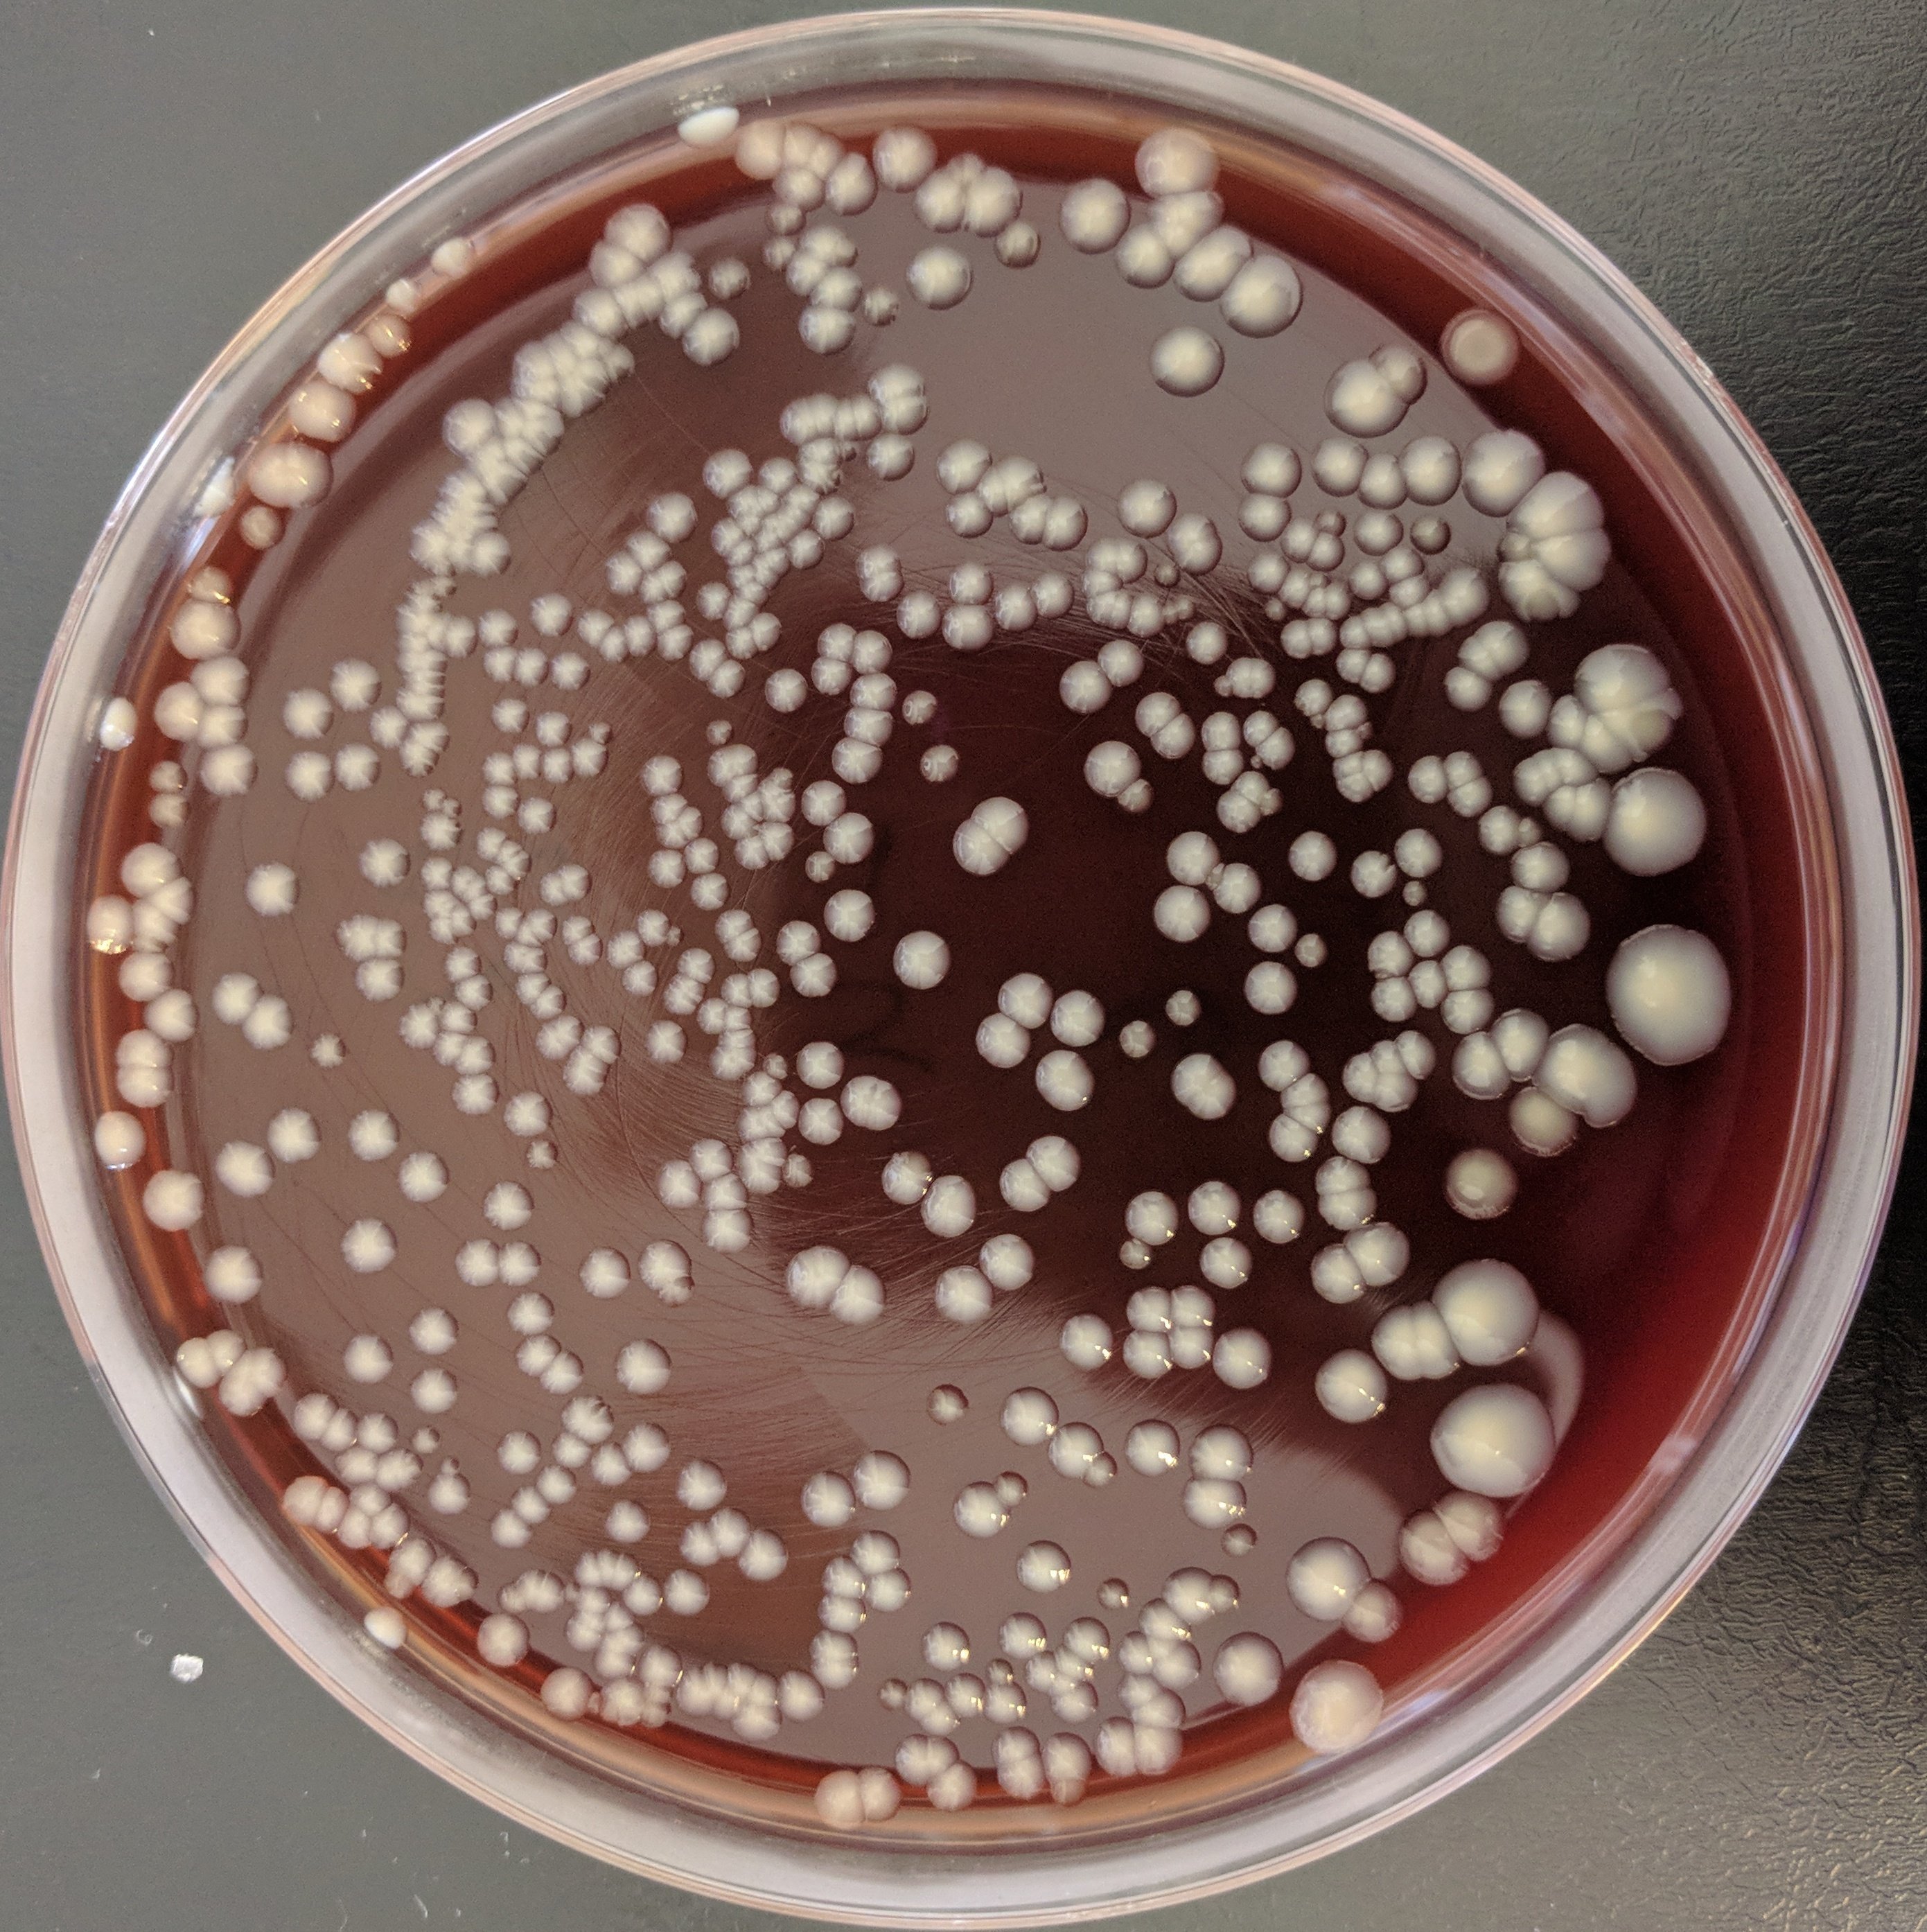sp05: (1601, 925, 1740, 1067), (1426, 1374, 1562, 1505), (528, 1013, 759, 1089), (1601, 766, 1717, 886), (1428, 1258, 1544, 1373), (1530, 1018, 1638, 1134), (1283, 1657, 1391, 1757), (1502, 459, 1613, 545), (1274, 1530, 1375, 1618), (1218, 240, 1308, 337), (1459, 425, 1549, 522), (1389, 1501, 1475, 1602), (1124, 122, 1228, 199), (1142, 321, 1237, 406), (1567, 639, 1676, 711), (1435, 1143, 1525, 1230), (1306, 1343, 1394, 1429), (1053, 171, 1138, 259), (1318, 358, 1408, 441), (1592, 686, 1691, 760), (1205, 1630, 1292, 1715), (1440, 303, 1525, 388), (1523, 526, 1625, 595), (1426, 1486, 1514, 1565), (1175, 213, 1253, 302), (244, 441, 335, 515), (1496, 554, 1585, 628), (210, 1346, 295, 1422), (1391, 427, 1465, 513), (1142, 187, 1230, 259), (1505, 1083, 1585, 1163), (775, 1244, 858, 1318), (281, 378, 365, 450), (888, 925, 969, 999), (1339, 1217, 1419, 1292), (1369, 1306, 1435, 1396), (904, 238, 981, 312), (847, 1445, 919, 1524), (1443, 1029, 1518, 1105), (168, 595, 247, 665), (136, 1163, 210, 1237), (866, 120, 942, 192), (1332, 1576, 1405, 1651), (593, 199, 674, 266), (1106, 221, 1181, 293), (1027, 1048, 1101, 1120), (194, 1240, 272, 1309), (1043, 985, 1115, 1057), (692, 448, 768, 517), (1145, 877, 1214, 953), (1484, 1006, 1549, 1085), (1172, 1470, 1253, 1533), (949, 168, 1023, 236), (1295, 1239, 1369, 1307), (206, 1133, 281, 1202), (911, 1172, 983, 1240), (1325, 1101, 1399, 1168), (1105, 475, 1181, 540), (1235, 439, 1311, 505), (789, 1470, 865, 1535), (1526, 893, 1595, 963), (963, 789, 1036, 856), (312, 328, 385, 395), (905, 159, 971, 233), (992, 1383, 1066, 1449), (974, 448, 1050, 512), (822, 145, 884, 222), (826, 1262, 895, 1330), (143, 679, 212, 748), (930, 1265, 1001, 1332), (1052, 1309, 1119, 1380), (923, 427, 995, 492), (1182, 1420, 1255, 1486), (1216, 1322, 1278, 1397), (259, 1099, 328, 1166), (83, 1106, 152, 1173), (1159, 1039, 1228, 1105), (238, 857, 309, 921), (1193, 1235, 1265, 1297), (194, 743, 266, 805), (662, 1452, 736, 1512), (184, 455, 244, 529), (939, 820, 1015, 879), (1366, 339, 1433, 404), (969, 1013, 1036, 1078), (138, 985, 205, 1050), (678, 307, 746, 371), (972, 1232, 1043, 1293), (469, 1611, 540, 1673), (79, 889, 141, 960), (1122, 1719, 1195, 1778), (429, 399, 503, 457), (1412, 1293, 1461, 1380), (1304, 432, 1369, 498), (993, 972, 1059, 1037), (339, 1214, 402, 1281), (1244, 1186, 1313, 1247), (118, 838, 187, 900), (1080, 739, 1145, 803), (1278, 826, 1343, 889), (1025, 1134, 1091, 1198), (731, 1524, 794, 1590), (806, 1768, 870, 1833), (277, 683, 342, 746), (605, 1337, 672, 1399), (639, 1232, 701, 1299), (794, 302, 863, 362), (1237, 960, 1306, 1020), (577, 1547, 637, 1616), (328, 649, 385, 722), (184, 651, 256, 708), (755, 450, 819, 513), (1156, 826, 1221, 887), (821, 806, 882, 872), (637, 489, 704, 549), (566, 281, 634, 341), (1182, 1177, 1249, 1237), (1117, 1419, 1184, 1479), (268, 1473, 335, 1533), (1491, 880, 1549, 949), (1117, 1187, 1186, 1246), (870, 1145, 939, 1203), (1309, 1184, 1389, 1233), (379, 1530, 441, 1593), (415, 1554, 478, 1616), (554, 1389, 618, 1450), (574, 1239, 635, 1302), (556, 1043, 618, 1106), (111, 1062, 185, 1115), (118, 947, 182, 1009), (124, 898, 187, 960), (731, 116, 796, 176), (946, 1480, 1011, 1540), (335, 1330, 401, 1390), (819, 886, 879, 951), (544, 356, 611, 415), (1505, 836, 1572, 895), (1260, 1112, 1327, 1170), (1339, 840, 1401, 902), (392, 1150, 455, 1210), (1230, 485, 1295, 543), (1389, 824, 1454, 882), (1237, 898, 1302, 956), (1248, 1032, 1313, 1090), (822, 730, 888, 789), (1357, 446, 1413, 513), (1306, 1149, 1375, 1203), (1495, 678, 1555, 739), (1209, 857, 1269, 919), (1015, 1539, 1076, 1599), (1158, 1565, 1218, 1627), (791, 1034, 851, 1096), (344, 1106, 404, 1168), (1043, 1419, 1101, 1482), (536, 1666, 600, 1724), (1052, 660, 1117, 716), (1175, 612, 1235, 672), (916, 1616, 978, 1674), (205, 969, 266, 1027), (1436, 566, 1493, 630), (238, 995, 302, 1052), (192, 699, 256, 755), (856, 432, 921, 487), (1581, 706, 1632, 775), (1186, 1066, 1244, 1126), (404, 1304, 464, 1362), (355, 833, 415, 891), (1091, 1719, 1140, 1789), (1124, 1692, 1200, 1738), (806, 261, 870, 316), (1435, 940, 1498, 995), (669, 1519, 732, 1574), (1036, 1731, 1099, 1786), (582, 238, 651, 288), (655, 289, 715, 346), (939, 596, 999, 653), (1147, 1639, 1207, 1696), (143, 873, 205, 928), (277, 748, 339, 803), (1401, 951, 1454, 1015), (1433, 981, 1496, 1034), (372, 1442, 425, 1505), (1539, 688, 1588, 755), (94, 688, 143, 755), (937, 487, 995, 543), (480, 1177, 538, 1233), (649, 251, 709, 305), (1475, 616, 1537, 669), (614, 1420, 676, 1473), (925, 1754, 978, 1816), (526, 404, 579, 466), (404, 1367, 468, 1419), (702, 741, 766, 792), (840, 1526, 905, 1576), (672, 108, 748, 150), (113, 1027, 180, 1075), (1117, 1325, 1173, 1382), (332, 741, 388, 798), (888, 584, 946, 639), (995, 1159, 1053, 1214), (536, 1344, 591, 1403), (452, 1237, 510, 1292), (791, 1094, 849, 1149), (796, 776, 854, 831), (701, 1205, 761, 1258), (649, 1156, 702, 1216), (1135, 1593, 1196, 1644), (416, 231, 480, 281), (1161, 505, 1225, 554), (445, 1071, 508, 1120), (1399, 902, 1454, 958), (1362, 928, 1419, 983), (494, 1426, 549, 1482), (501, 1085, 558, 1140), (771, 916, 828, 970), (990, 1606, 1048, 1659), (992, 219, 1052, 270), (482, 1503, 542, 1554), (1168, 1316, 1218, 1378), (916, 1382, 978, 1431), (1165, 538, 1233, 582), (1567, 782, 1615, 845), (1027, 570, 1082, 625), (773, 1667, 828, 1722), (600, 1494, 656, 1547), (235, 499, 288, 556), (464, 526, 517, 582), (992, 1752, 1050, 1803), (600, 1673, 651, 1731), (487, 1565, 545, 1616), (358, 1604, 416, 1655), (318, 1401, 369, 1459), (496, 1233, 547, 1292), (351, 958, 409, 1009), (858, 1761, 904, 1824), (888, 1729, 934, 1793), (798, 129, 852, 182), (1352, 505, 1405, 559), (1129, 686, 1182, 741), (1143, 713, 1198, 766), (988, 580, 1043, 633), (1059, 1613, 1113, 1666), (425, 1468, 478, 1523), (288, 1389, 341, 1443), (169, 1336, 222, 1390), (731, 1142, 784, 1196), (1440, 662, 1491, 718), (983, 1724, 1048, 1768), (775, 116, 824, 175), (1318, 688, 1376, 738), (814, 1590, 872, 1639), (895, 1673, 953, 1722), (868, 362, 928, 409), (1203, 789, 1263, 836), (801, 1655, 868, 1697), (836, 1066, 879, 1133), (660, 1565, 713, 1618), (1239, 545, 1293, 596), (1094, 635, 1149, 686), (1456, 632, 1507, 686), (1472, 805, 1523, 859), (506, 1290, 561, 1341), (326, 912, 378, 967), (623, 524, 678, 575), (1048, 1676, 1105, 1726), (425, 610, 482, 660), (526, 588, 575, 644), (780, 249, 838, 296), (1043, 490, 1091, 549), (325, 1442, 383, 1489), (764, 164, 824, 210), (863, 1570, 923, 1616), (810, 1556, 870, 1602), (981, 1678, 1034, 1729), (632, 1637, 685, 1689), (787, 951, 840, 1002), (478, 466, 529, 519), (914, 741, 969, 790), (1121, 1283, 1175, 1332), (685, 1136, 739, 1186), (390, 727, 439, 782), (810, 490, 859, 545), (879, 393, 942, 436), (1001, 489, 1048, 545), (1269, 561, 1316, 618), (1249, 718, 1297, 775), (1535, 780, 1583, 836), (300, 1027, 356, 1075), (732, 1103, 791, 1149), (794, 219, 854, 263), (626, 275, 678, 326), (1221, 649, 1272, 700), (1549, 743, 1601, 794), (452, 1030, 503, 1082), (681, 633, 732, 685), (810, 614, 861, 665), (365, 1501, 418, 1551), (205, 1327, 254, 1380), (604, 275, 651, 330), (1443, 773, 1498, 820), (355, 1406, 401, 1463), (1368, 1071, 1428, 1113), (311, 1479, 353, 1539), (856, 284, 907, 333), (704, 252, 755, 302), (1392, 1029, 1442, 1080), (762, 663, 812, 715), (642, 1015, 690, 1067), (656, 970, 709, 1018), (600, 928, 653, 976), (847, 665, 900, 713), (365, 311, 418, 358), (425, 508, 505, 540), (1403, 752, 1449, 806), (510, 1330, 565, 1376), (577, 1022, 632, 1067), (754, 775, 799, 829), (842, 702, 896, 748), (1269, 1073, 1332, 1112), (865, 1073, 904, 1136), (941, 146, 990, 196), (1406, 510, 1456, 559), (531, 1459, 581, 1509), (671, 940, 720, 990), (637, 750, 686, 799), (600, 552, 649, 602), (845, 390, 896, 438), (1366, 976, 1417, 1023), (939, 1671, 986, 1722), (942, 559, 997, 603), (805, 1625, 866, 1664), (851, 568, 907, 610), (1045, 1643, 1101, 1685), (184, 561, 240, 603), (498, 371, 565, 406), (1124, 584, 1165, 642), (392, 686, 450, 727), (1166, 1281, 1216, 1329), (759, 194, 810, 240), (771, 401, 822, 446), (1113, 533, 1159, 584), (1113, 1018, 1165, 1064), (503, 937, 554, 983), (367, 914, 413, 965), (545, 646, 596, 692), (1193, 709, 1246, 753), (1198, 743, 1251, 787), (1158, 985, 1211, 1029), (699, 1170, 752, 1214), (1382, 570, 1436, 612), (1285, 676, 1339, 718), (1302, 526, 1350, 573), (688, 868, 736, 916), (1378, 538, 1428, 584), (1214, 1517, 1263, 1563), (506, 1484, 556, 1530), (397, 1002, 443, 1052), (641, 847, 690, 893), (1113, 1673, 1172, 1711), (1346, 552, 1391, 603), (1359, 649, 1403, 700), (729, 1701, 780, 1745), (425, 1022, 469, 1073), (556, 859, 600, 910), (805, 653, 856, 697), (344, 1479, 397, 1521), (1507, 755, 1548, 810), (704, 1503, 745, 1558), (141, 792, 196, 833), (694, 573, 734, 628), (1288, 925, 1334, 972), (986, 1464, 1034, 1510), (1108, 1630, 1156, 1676), (586, 1442, 634, 1487), (434, 997, 484, 1041), (365, 702, 409, 752), (1230, 704, 1281, 746), (544, 1429, 595, 1471), (533, 704, 575, 755), (1302, 607, 1343, 660), (674, 1667, 715, 1720), (337, 1503, 378, 1556), (538, 328, 584, 374), (898, 685, 944, 730), (716, 970, 762, 1016), (632, 907, 678, 953), (445, 863, 491, 909), (475, 607, 521, 653), (704, 660, 750, 706), (694, 1657, 738, 1704), (619, 1576, 667, 1620), (439, 940, 487, 985), (514, 792, 558, 840), (782, 526, 826, 573), (708, 513, 752, 561), (711, 903, 761, 946), (416, 810, 466, 852), (681, 833, 724, 882), (716, 768, 766, 810), (404, 715, 454, 757), (574, 602, 616, 651), (655, 618, 697, 667), (852, 625, 895, 674), (755, 235, 806, 275), (556, 318, 607, 358), (912, 1699, 963, 1740), (921, 1729, 962, 1780), (1078, 533, 1131, 572), (1419, 588, 1456, 642), (651, 1269, 697, 1313), (487, 693, 531, 739), (475, 748, 521, 792), (506, 339, 554, 381), (1440, 750, 1488, 792), (694, 990, 736, 1037), (591, 337, 641, 378), (616, 956, 665, 997), (731, 826, 771, 875), (849, 543, 905, 579), (1276, 1099, 1332, 1134), (713, 1022, 764, 1060), (746, 605, 785, 656), (1279, 515, 1323, 559), (1091, 1574, 1135, 1618), (1276, 616, 1318, 662), (1113, 775, 1159, 817), (741, 1066, 787, 1108), (720, 925, 766, 967), (746, 963, 787, 1011), (757, 817, 798, 865), (796, 453, 844, 494), (570, 734, 609, 783), (623, 614, 662, 663), (653, 554, 692, 603), (757, 529, 796, 579), (432, 469, 484, 506), (798, 392, 842, 434), (1016, 1651, 1059, 1696), (535, 1567, 570, 1620), (526, 983, 570, 1025), (478, 780, 522, 822), (508, 646, 552, 688), (506, 441, 549, 485), (1078, 584, 1119, 630), (145, 757, 191, 798), (538, 743, 579, 789), (720, 621, 761, 667), (1076, 561, 1126, 598), (1320, 725, 1369, 762), (1329, 768, 1378, 805), (510, 741, 547, 790), (595, 618, 632, 667), (829, 393, 865, 445), (1149, 552, 1193, 593), (1338, 1053, 1378, 1097), (489, 903, 533, 944), (383, 272, 424, 316), (401, 526, 445, 566), (450, 974, 496, 1013), (415, 854, 461, 893), (792, 432, 845, 466), (1362, 746, 1399, 794), (768, 1085, 803, 1134), (1371, 1037, 1412, 1080), (1113, 1233, 1156, 1274), (776, 1150, 817, 1193), (522, 1136, 565, 1177), (510, 969, 552, 1009), (798, 847, 838, 889), (715, 803, 757, 843), (1140, 1620, 1179, 1664), (646, 789, 690, 827), (1336, 642, 1373, 688), (1297, 572, 1331, 621), (559, 1547, 600, 1588), (406, 1420, 446, 1461), (482, 644, 522, 685), (1493, 529, 1535, 568), (1230, 768, 1272, 806), (1398, 593, 1429, 644), (473, 820, 508, 866), (533, 870, 572, 910), (1207, 1569, 1239, 1618), (381, 1569, 424, 1606), (701, 713, 738, 755), (718, 535, 761, 572), (1038, 1664, 1082, 1699), (556, 914, 600, 949), (566, 933, 611, 969), (446, 536, 473, 595), (522, 907, 561, 946), (874, 1674, 911, 1715), (708, 1687, 745, 1727), (388, 605, 429, 642), (1106, 582, 1136, 632), (491, 831, 521, 880), (1046, 1775, 1091, 1808), (676, 799, 709, 843), (722, 563, 766, 596), (750, 1666, 782, 1711), (644, 598, 690, 630), (401, 667, 455, 693), (748, 1131, 787, 1168), (722, 1002, 759, 1041), (445, 902, 482, 940), (722, 595, 761, 632), (761, 1048, 796, 1089), (1323, 573, 1352, 623), (482, 861, 519, 898), (1313, 503, 1352, 538), (1339, 616, 1375, 655), (1361, 607, 1394, 648), (651, 819, 692, 852), (635, 568, 669, 609), (1378, 596, 1410, 639), (1532, 746, 1563, 789), (588, 1646, 635, 1674), (1331, 750, 1375, 780), (561, 1618, 598, 1653), (418, 886, 455, 921), (452, 1563, 485, 1602), (595, 1600, 635, 1632), (514, 914, 549, 949), (1255, 783, 1288, 819), (725, 1659, 757, 1696), (397, 589, 438, 618), (424, 914, 457, 947), (438, 790, 471, 824), (983, 1655, 1018, 1687), (591, 1544, 618, 1586), (464, 891, 499, 923), (491, 404, 526, 436), (1256, 593, 1286, 630), (1198, 856, 1226, 895), (596, 1629, 641, 1653), (637, 1699, 671, 1731), (505, 850, 538, 882), (739, 577, 771, 610), (1514, 808, 1541, 847), (1399, 879, 1431, 910), (1085, 1454, 1113, 1489), (739, 789, 768, 824), (641, 1680, 678, 1706), (416, 785, 446, 817), (416, 646, 448, 676), (439, 501, 492, 519), (395, 628, 432, 653), (766, 760, 794, 792), (757, 559, 784, 593), (586, 718, 616, 746), (1203, 672, 1233, 699), (394, 646, 424, 672), (1170, 595, 1196, 623), (438, 1456, 466, 1482), (755, 485, 782, 513), (664, 921, 688, 951), (769, 515, 794, 543), (605, 1623, 644, 1641), (1302, 570, 1334, 591), (784, 501, 808, 528), (1152, 596, 1175, 625), (425, 992, 448, 1020), (409, 579, 438, 600), (561, 1579, 582, 1606), (736, 515, 766, 533), (579, 1689, 598, 1715), (436, 561, 457, 584), (436, 584, 461, 603), (1304, 709, 1325, 729), (1244, 752, 1263, 771), (764, 517, 775, 529)
